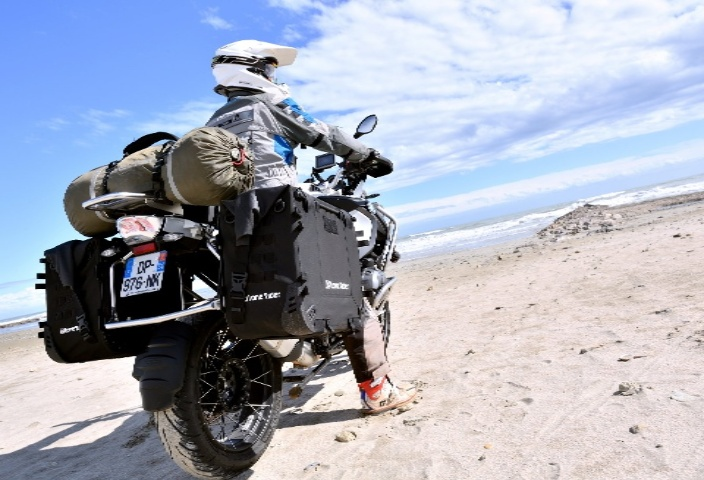motorcycle: (33, 35, 426, 466)
